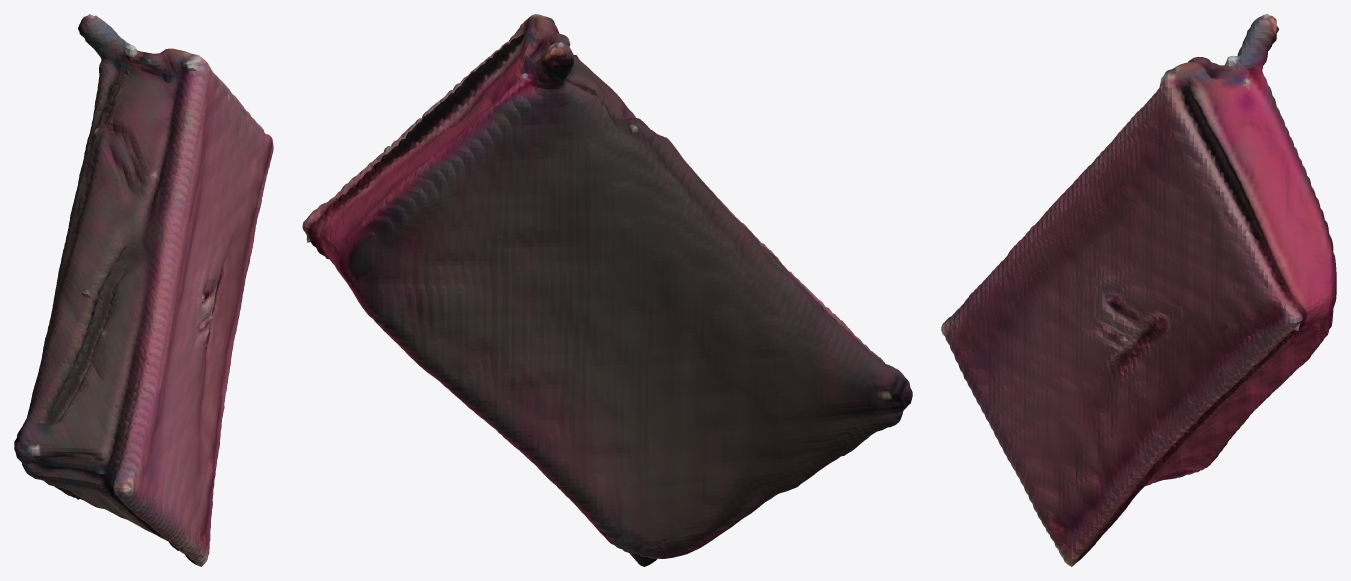
3 renders of one model, left to right at view 1: azimuth 30°, elevation 25°; view 2: azimuth 150°, elevation 25°; view 3: azimuth 270°, elevation 25°, orthographic. The views are drawn at different scales.
Size of the model in its own units: 0.741 by 0.9326 by 0.6188.
